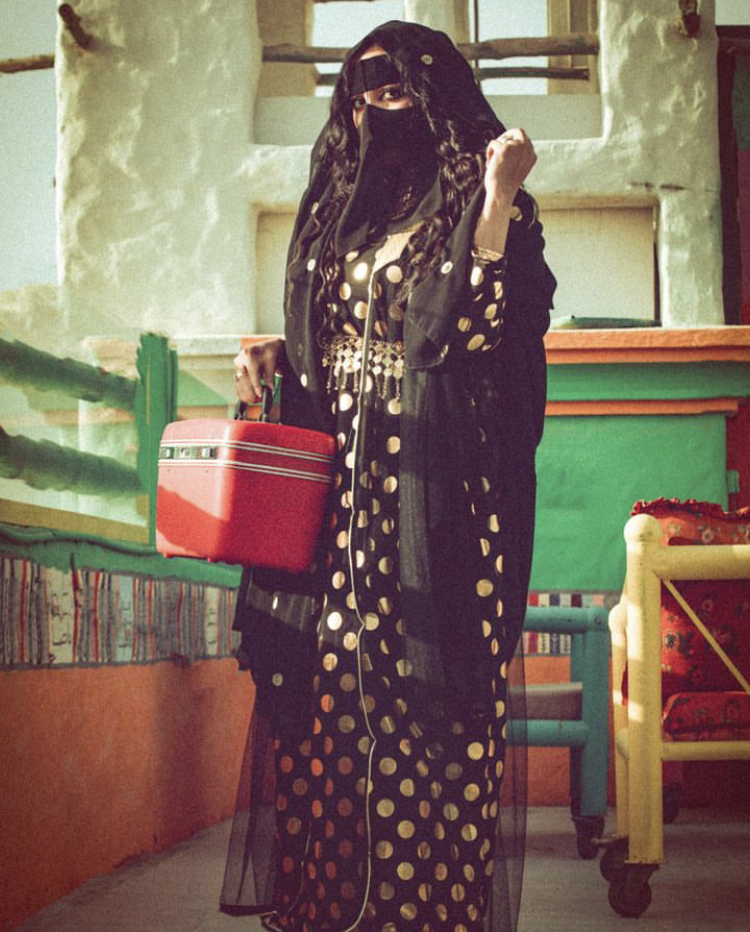Saudi_Founding_Day: (142, 7, 559, 932)
